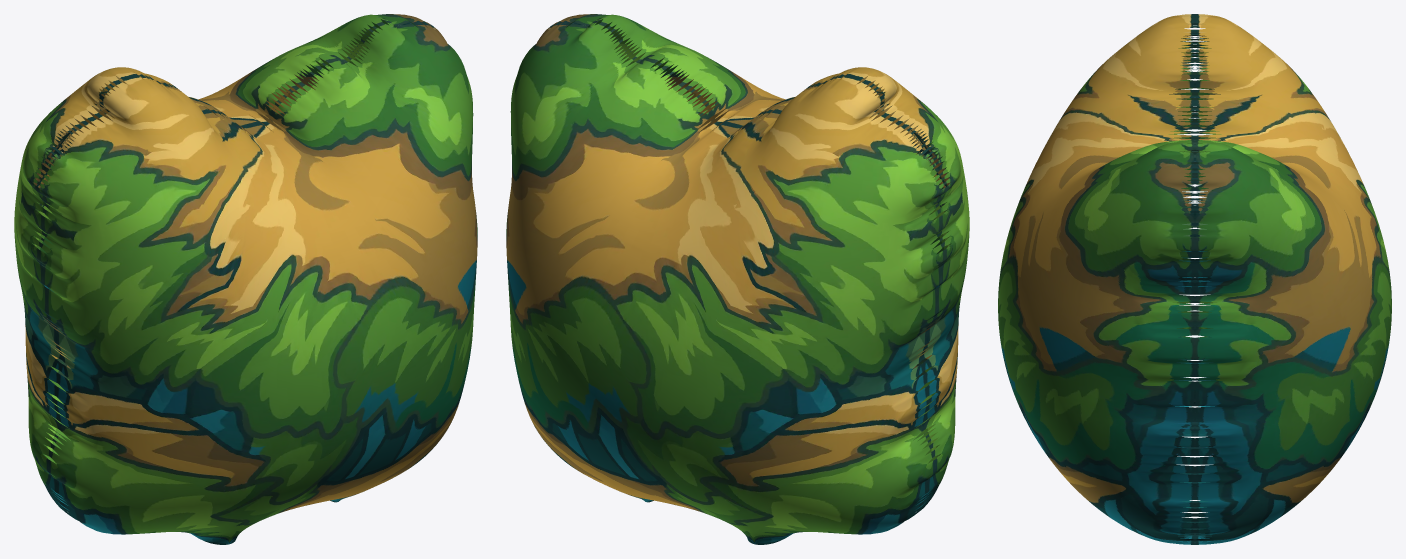
Rendered from east_cliff.glb.
3 renders of one model, left to right at view 1: azimuth 30°, elevation 25°; view 2: azimuth 150°, elevation 25°; view 3: azimuth 270°, elevation 25°, orthographic. The views are drawn at different scales.
Visible parts, largest first — view 1: east_cliff; view 2: east_cliff; view 3: east_cliff.
Boxes of the visible parts, <box> form: east_cliff: <box>14,14,477,544</box>; east_cliff: <box>506,14,969,544</box>; east_cliff: <box>998,14,1391,544</box>.
Size of the model in its own units: 0.9887 by 1 by 0.8564.
Materials: 1 (1 with a texture image).
